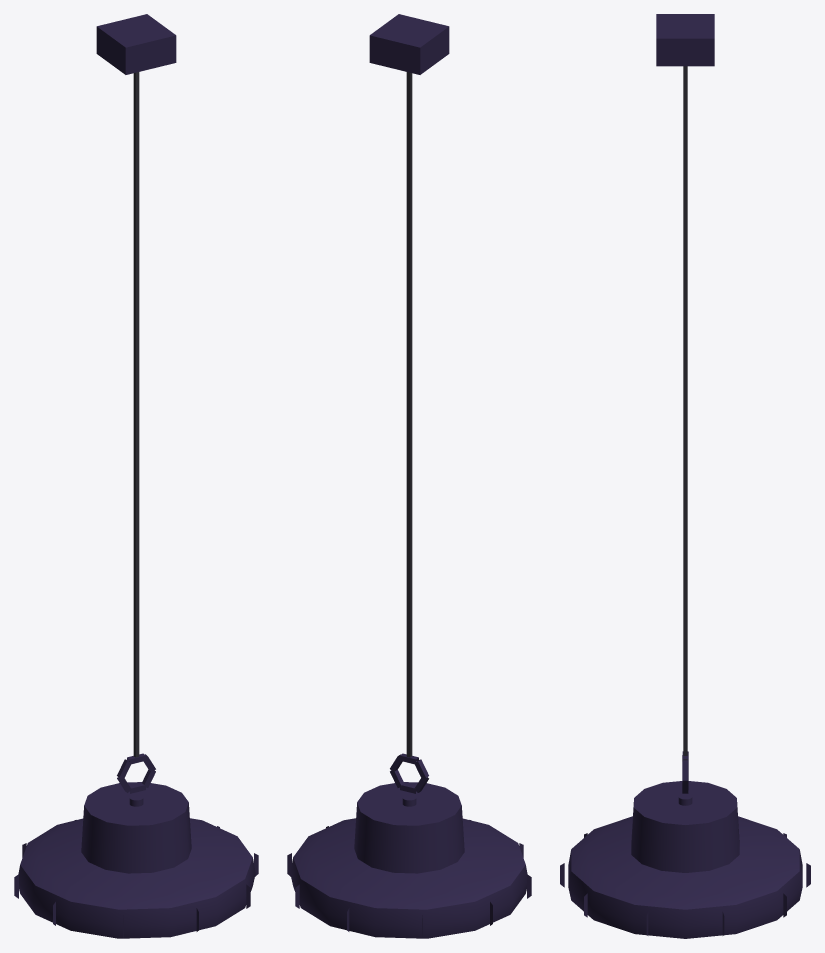
Rendered from roof_lamp.glb.
3 views of the same model, side by side, from view 1: azimuth 30°, elevation 25°; view 2: azimuth 150°, elevation 25°; view 3: azimuth 270°, elevation 25° (orthographic).
Parts seen in each view (by area): view 1: RoofLamp; view 2: RoofLamp; view 3: RoofLamp.
Part boxes in pixels (box(x1,y1,x2,y2)): RoofLamp: box(14, 14, 258, 938); RoofLamp: box(287, 14, 531, 938); RoofLamp: box(560, 14, 810, 938).
Bounding box in the file's own units: 0.41 × 1.64 × 0.428.
